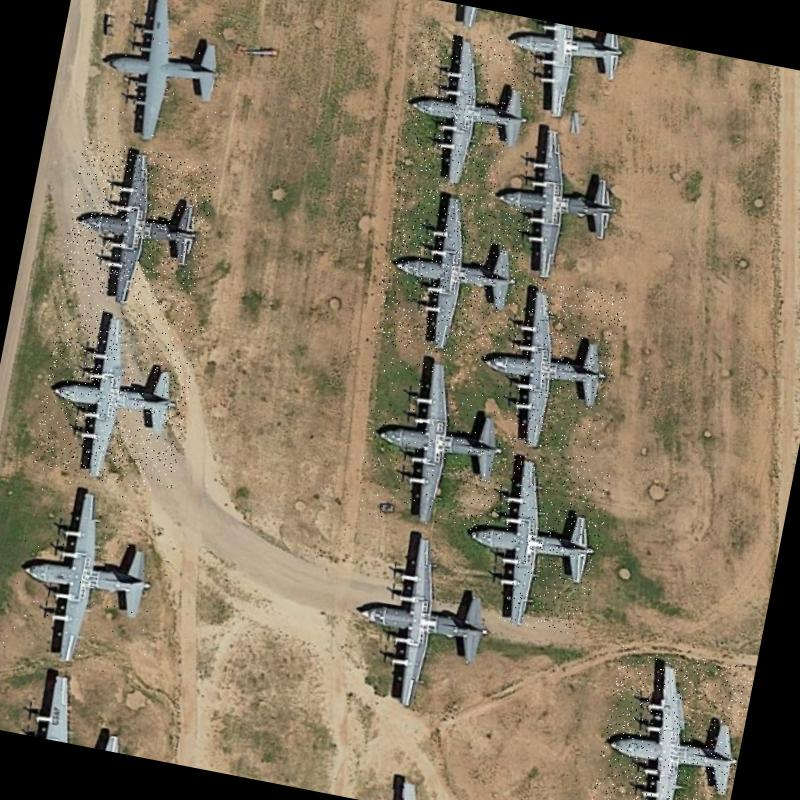A2: (331, 514, 513, 724), (1, 474, 176, 680), (29, 298, 202, 494), (351, 344, 520, 538), (446, 444, 614, 637), (463, 270, 627, 464), (368, 180, 532, 366), (55, 138, 220, 316), (480, 108, 636, 293), (390, 22, 542, 200), (585, 643, 754, 800), (91, 0, 244, 153)
